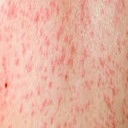Measles: (9, 7, 121, 116)
